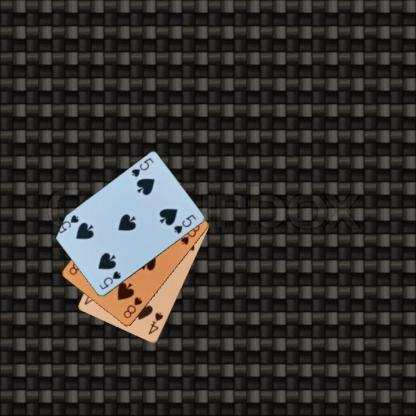4s: (146, 310, 164, 336)
5s: (96, 269, 122, 291), (129, 156, 155, 178)
8s: (121, 295, 143, 320)
